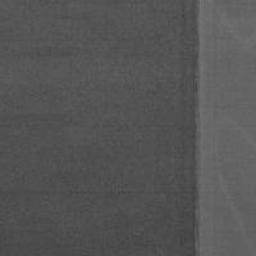Welding line: (193, 0, 202, 256)
